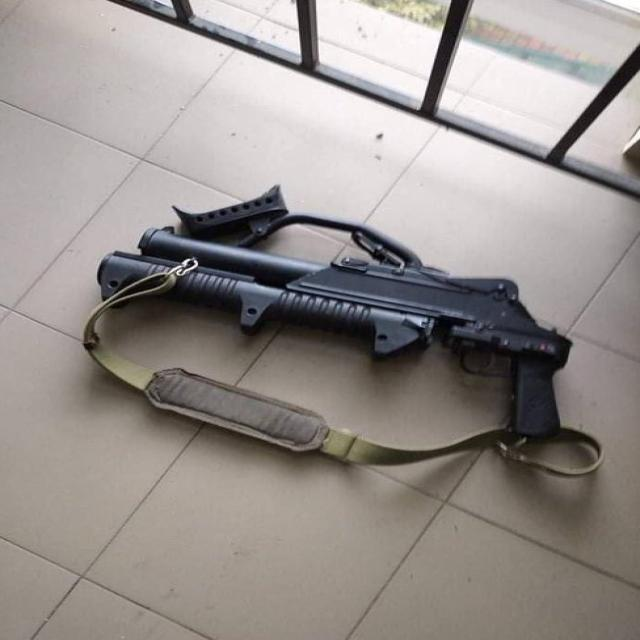Weapon: (98, 214, 568, 437)
